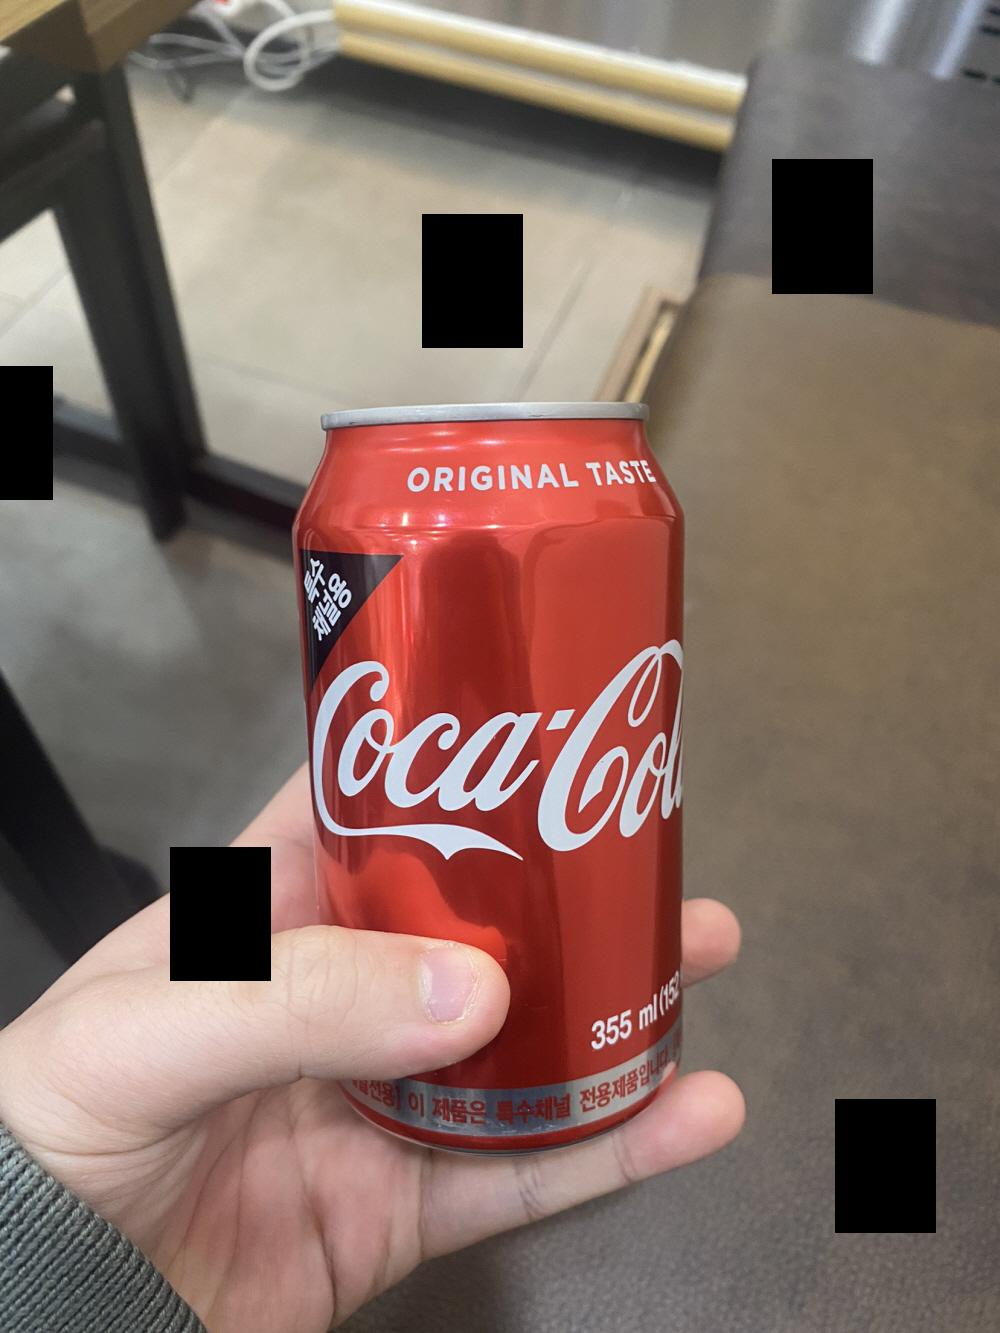cocacola: (288, 421, 694, 1142)
